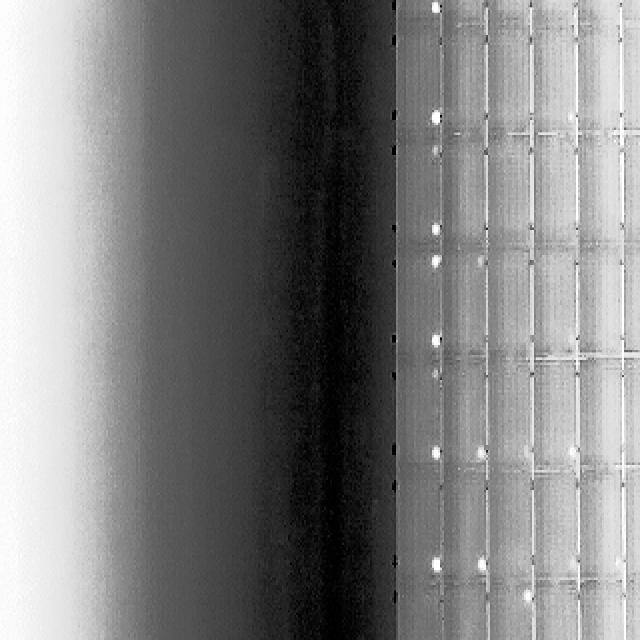Hotspots: (468, 551, 489, 581), (467, 439, 489, 467), (560, 552, 578, 577), (426, 553, 443, 579), (562, 440, 578, 466), (476, 440, 492, 465), (475, 553, 492, 576), (427, 330, 443, 354), (426, 440, 442, 463), (610, 552, 626, 575), (562, 109, 577, 132), (428, 218, 442, 242), (428, 253, 442, 274), (430, 108, 442, 132), (428, 0, 440, 20), (520, 590, 535, 606)
PV-modules: (435, 138, 486, 254), (435, 255, 487, 367), (436, 26, 486, 139), (440, 469, 489, 584), (573, 244, 622, 356), (578, 359, 626, 473), (573, 136, 620, 252), (484, 475, 532, 587), (485, 361, 532, 475), (573, 25, 621, 136), (578, 469, 626, 580), (438, 366, 485, 479), (486, 136, 532, 251), (396, 466, 440, 586), (531, 362, 578, 474), (531, 247, 578, 359), (533, 136, 579, 250), (531, 472, 579, 581), (486, 24, 532, 136), (487, 246, 532, 360), (395, 362, 440, 476), (532, 24, 578, 135), (396, 25, 440, 139), (396, 141, 439, 255), (396, 251, 439, 362), (528, 583, 578, 640), (440, 585, 490, 640), (577, 582, 623, 640), (488, 585, 535, 640), (396, 587, 444, 640), (620, 135, 640, 247), (620, 355, 640, 467), (620, 470, 640, 582), (620, 245, 640, 355), (620, 22, 640, 130), (572, 0, 618, 28), (530, 0, 580, 25), (436, 0, 484, 25), (480, 0, 526, 25), (394, 0, 438, 25), (622, 580, 640, 640), (620, 0, 640, 28)
